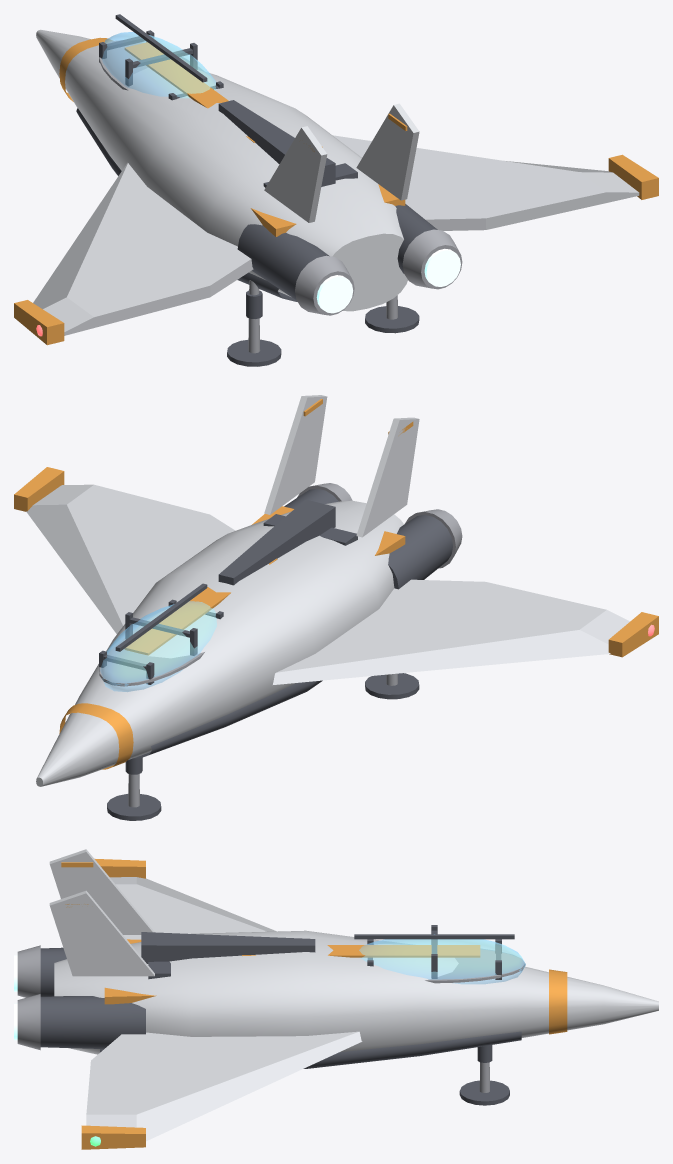
Rendered from ship.glb.
3 renders of one model, top to bottom at view 1: azimuth 30°, elevation 25°; view 2: azimuth 150°, elevation 25°; view 3: azimuth 270°, elevation 25°, orthographic. The views are drawn at different scales.
Visible parts, largest first — view 1: Hull, Wings, Engines, Fins, Canopy, CanopyFrame, Gear_L_Mesh, Gear_R_Mesh; view 2: Hull, Wings, Fins, Canopy, Engines, CanopyFrame, Gear_Front_Mesh, Gear_L_Mesh; view 3: Hull, Wings, Fins, Engines, Canopy, CanopyFrame, Gear_Front_Mesh.
Part boxes in pixels (box(x1,y1,x2,y2)): Hull: box(36, 29, 407, 311); Wings: box(14, 135, 658, 345); Engines: box(237, 184, 462, 315); Fins: box(264, 103, 419, 222); Canopy: box(99, 32, 216, 98); CanopyFrame: box(99, 14, 223, 100); Gear_L_Mesh: box(227, 280, 281, 366); Gear_R_Mesh: box(365, 295, 419, 333); Hull: box(36, 499, 403, 786); Wings: box(14, 467, 658, 684); Fins: box(264, 395, 419, 537); Canopy: box(99, 601, 216, 691); Engines: box(252, 483, 462, 589); CanopyFrame: box(99, 583, 223, 684); Gear_Front_Mesh: box(107, 757, 161, 820); Gear_L_Mesh: box(365, 673, 419, 699); Hull: box(54, 930, 658, 1068); Wings: box(81, 858, 362, 1149); Fins: box(49, 849, 154, 976); Engines: box(14, 939, 156, 1050); Canopy: box(359, 934, 525, 984); CanopyFrame: box(354, 925, 514, 979); Gear_Front_Mesh: box(459, 1045, 509, 1105).
Bounding box in the file's own units: 14.32 × 5.45 × 14.08.
